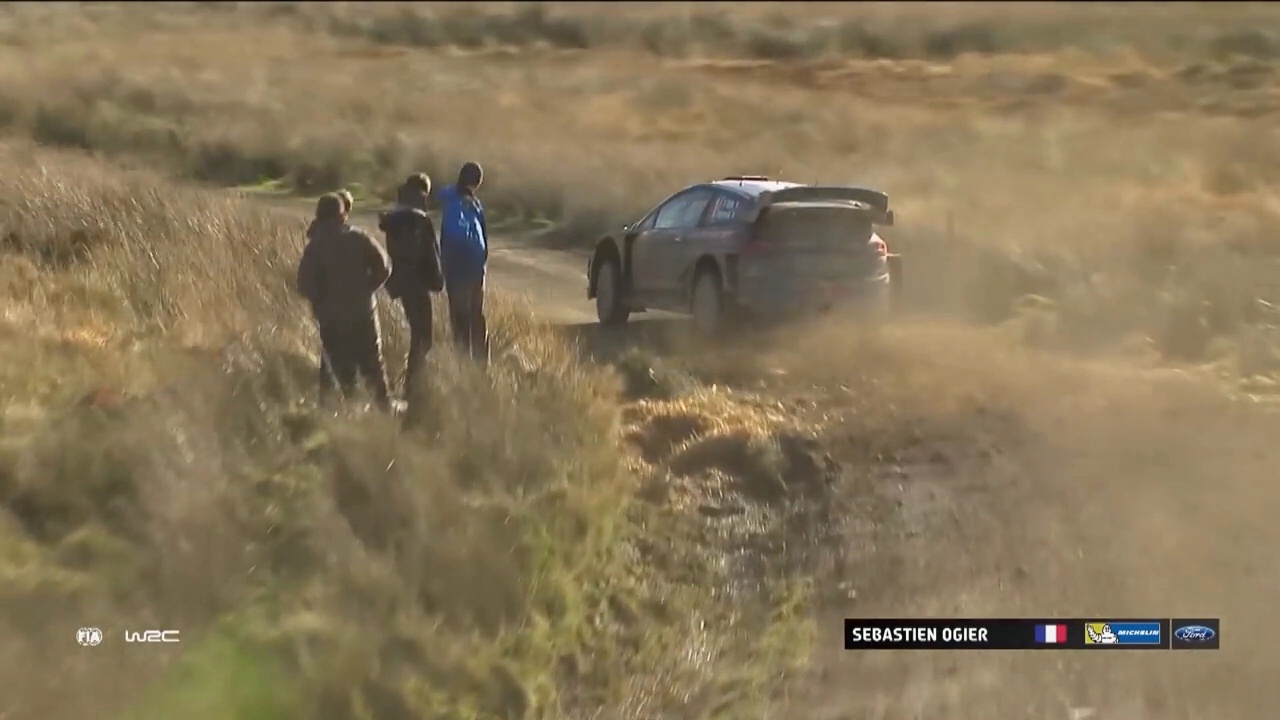araba: (583, 174, 906, 344)
insan: (292, 189, 401, 410), (372, 165, 451, 408), (444, 161, 495, 365)
